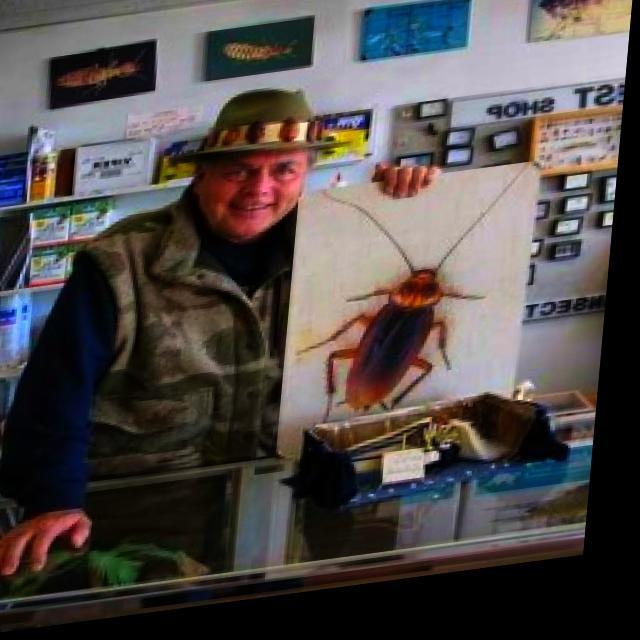cockroach: (311, 165, 532, 425)
